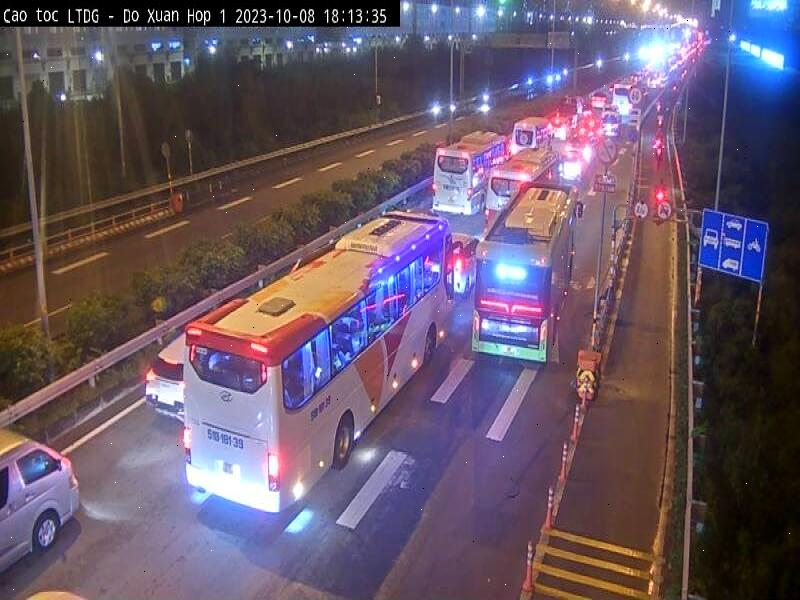bus: (183, 210, 455, 513), (472, 179, 578, 361), (432, 134, 513, 218)
car: (0, 430, 79, 577), (144, 336, 184, 424)
